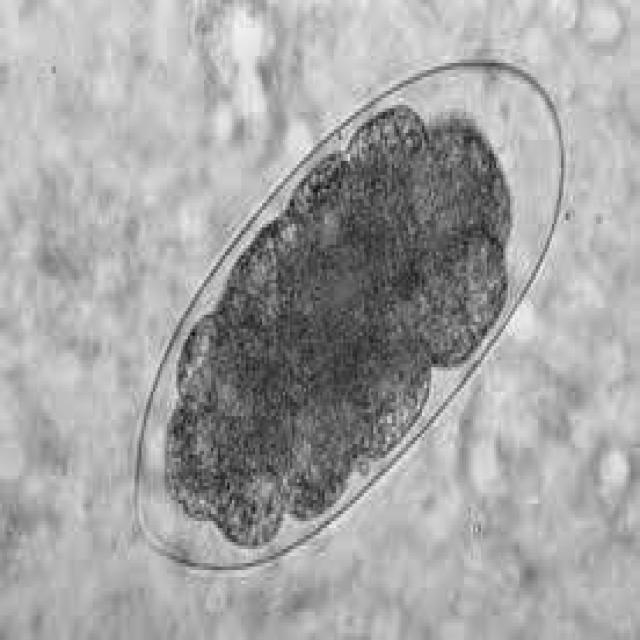Ancylostoma Spp: (119, 51, 570, 575)
